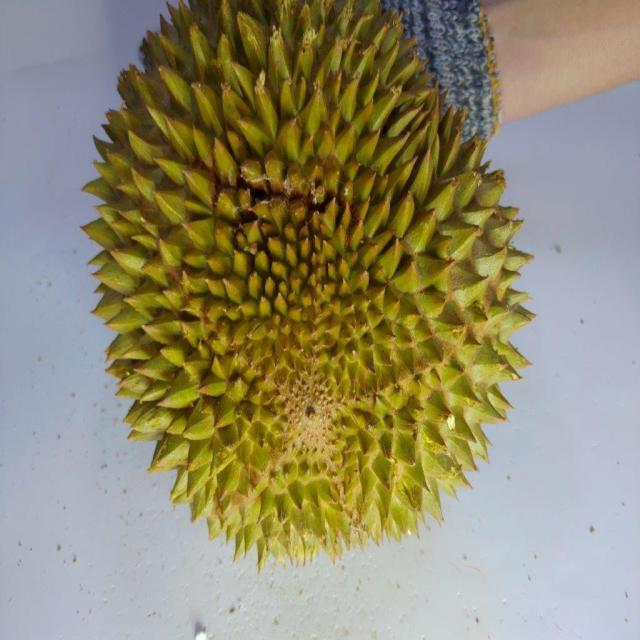immature: (77, 0, 540, 578)
